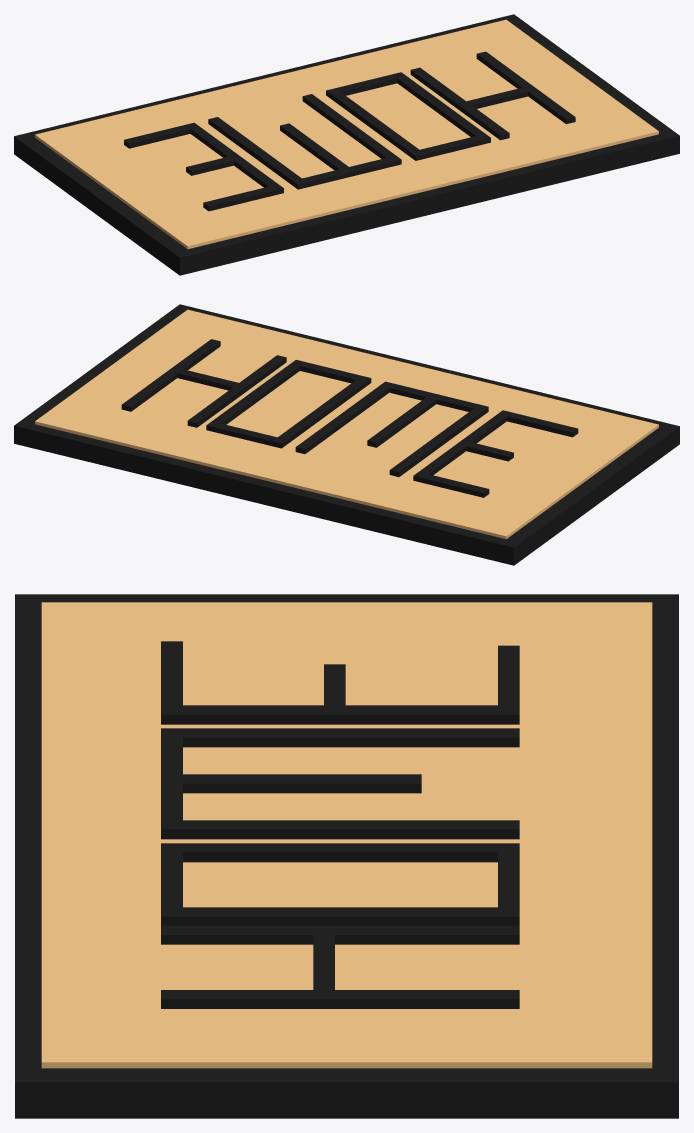
Rendered from Modern rug.glb.
3 renders of one model, top to bottom at view 1: azimuth 30°, elevation 25°; view 2: azimuth 150°, elevation 25°; view 3: azimuth 270°, elevation 25°, orthographic. The views are drawn at different scales.
Visible parts, largest first — view 1: Node; view 2: Node; view 3: Node.
Part boxes in pixels (bbox=[...]): Node: bbox=[14, 14, 679, 275]; Node: bbox=[14, 304, 679, 565]; Node: bbox=[15, 594, 678, 1118].
Size of the model in its own units: 0.87 by 0.0441 by 0.5.
